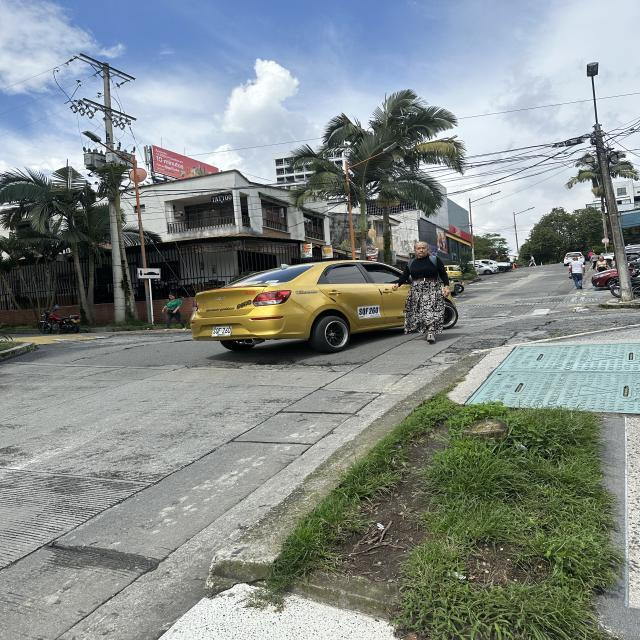number plate: (211, 325, 232, 337)
